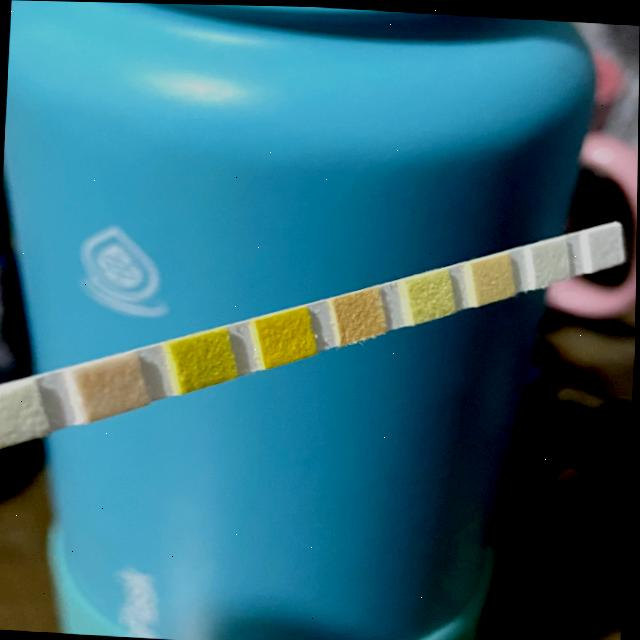Bilirubin: (0, 393, 40, 440)
Blood: (267, 316, 311, 356)
Ketone: (90, 364, 139, 406)
Leukocytes: (595, 228, 620, 261)
Nitrite: (538, 240, 566, 275)
Protein: (416, 275, 452, 312)
SpGravity: (186, 337, 227, 380)
Urobilinogen: (481, 258, 512, 295)
pH: (344, 293, 382, 333)
